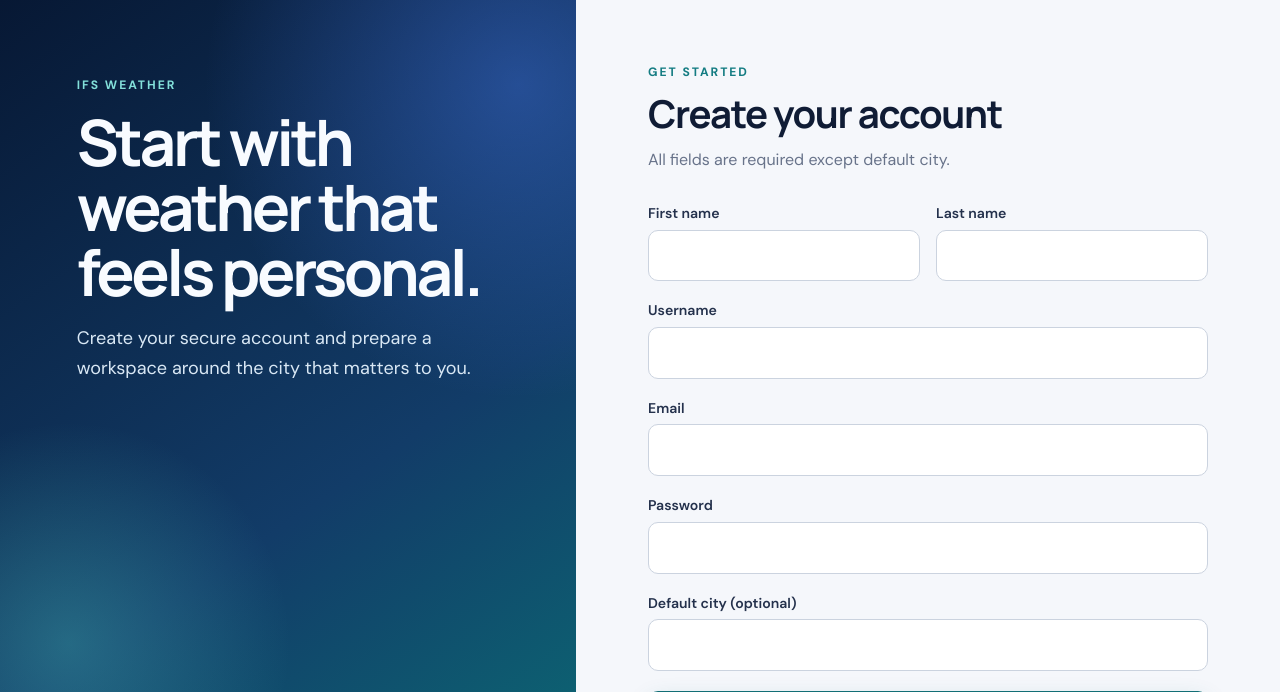
it: registration flow › registers a User, establishes the session, and routes to weather
This screenshot has width=1280, height=692.
Type "Ada" into the field labelled "First name" at (784, 256), box left=648, top=230, right=920, bottom=281
Type "Lovelace" into the field labelled "Last name" at (1072, 256), box left=936, top=230, right=1208, bottom=281
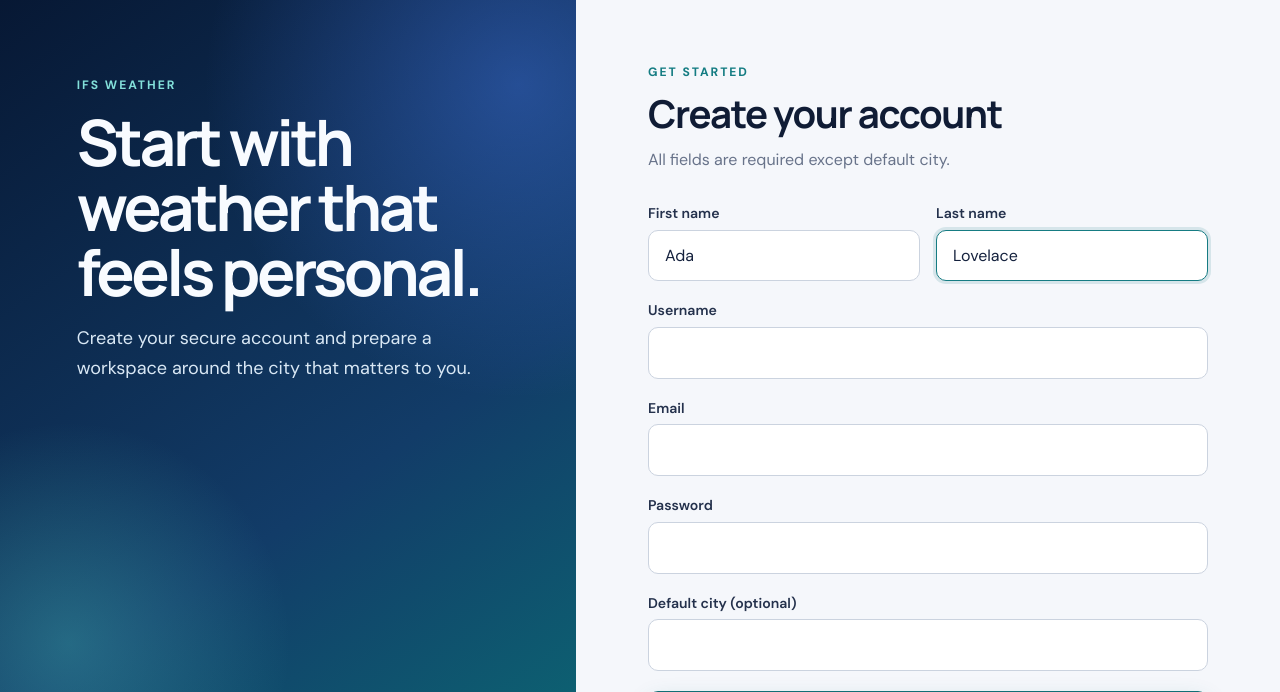
Type "ada.lovelace" into the field labelled "Username" at (928, 353), box left=648, top=327, right=1208, bottom=379
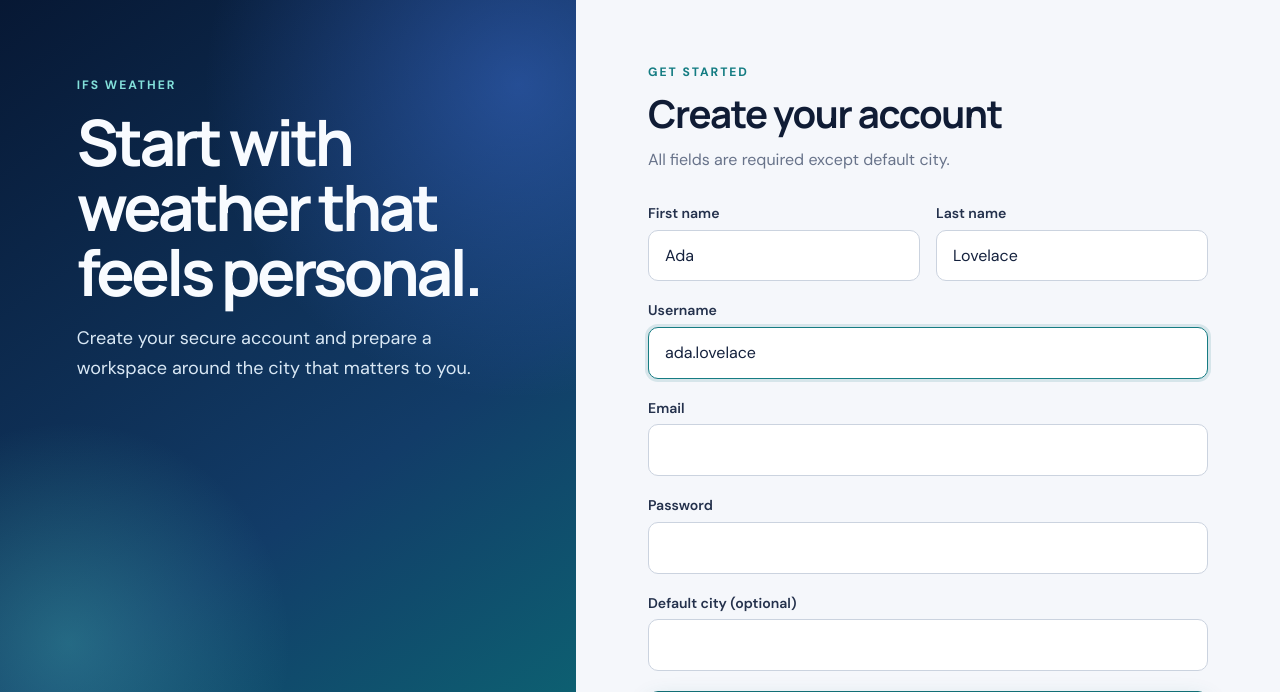
Type "ada@example.test" into the field labelled "Email" at (928, 450), box left=648, top=424, right=1208, bottom=476
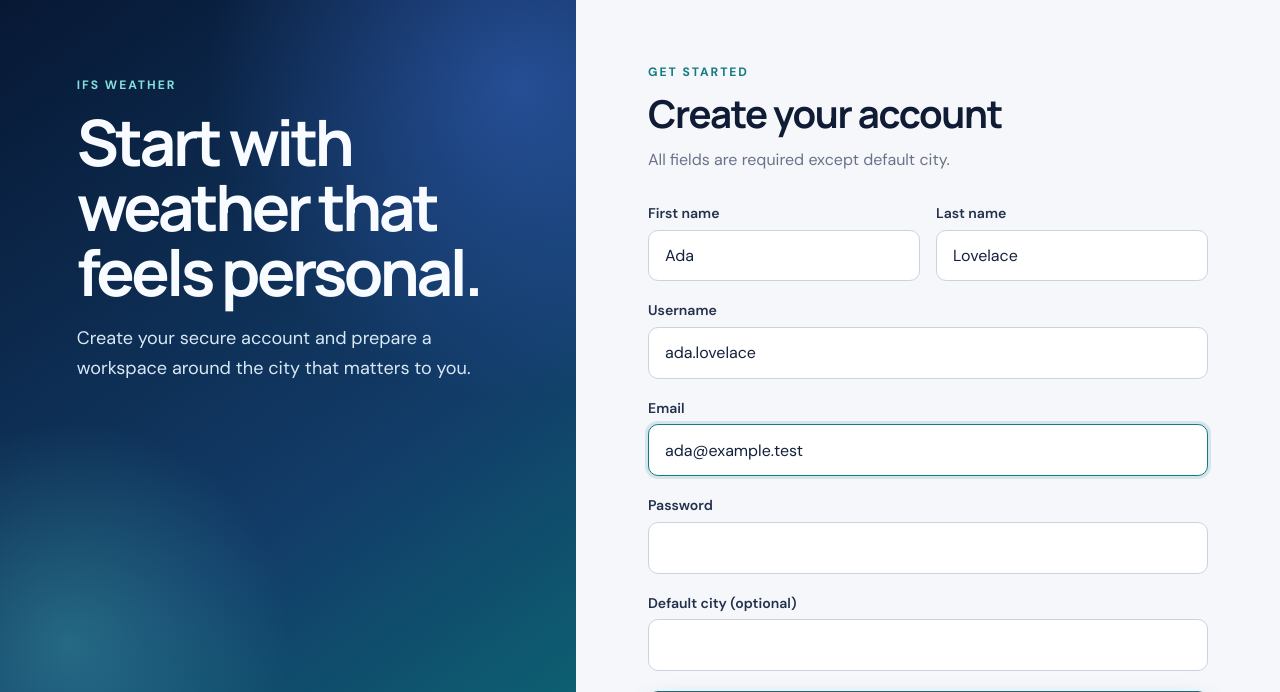
Type "SecurePass1" into the password field labelled "Password" at (928, 548), box left=648, top=522, right=1208, bottom=574
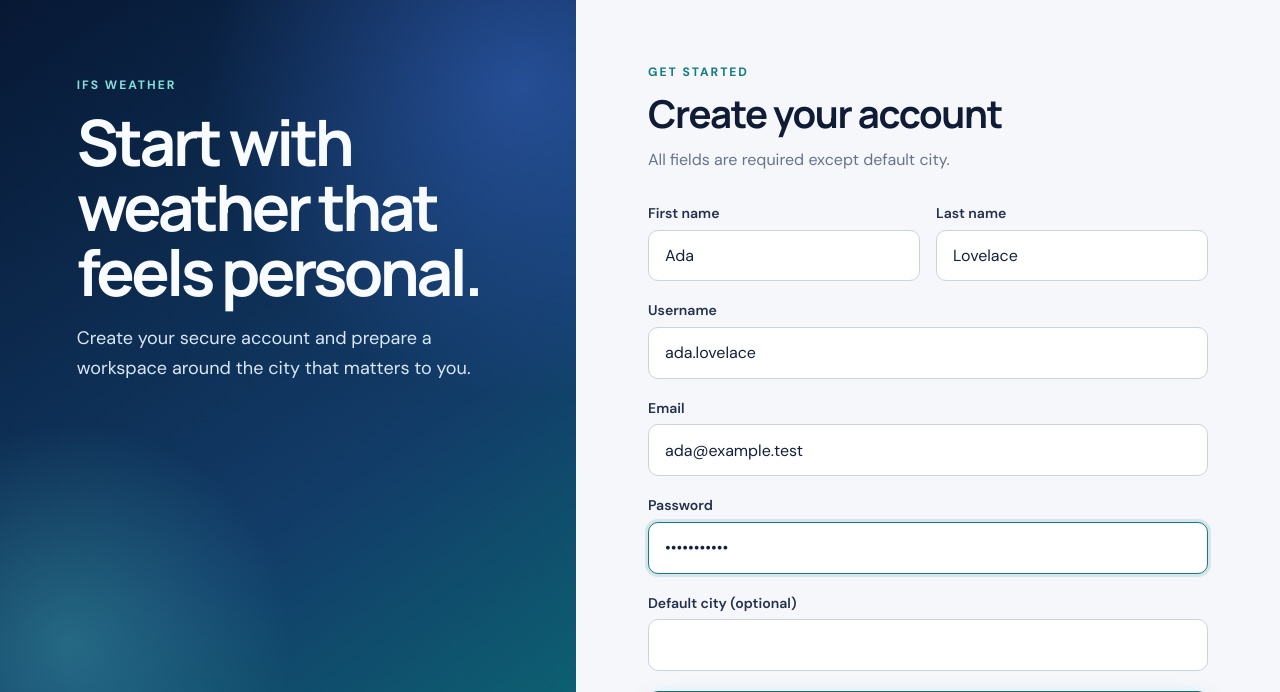
Type " London " into the field labelled "Default city (optional)" at (928, 645), box left=648, top=619, right=1208, bottom=671
(page scrolled)
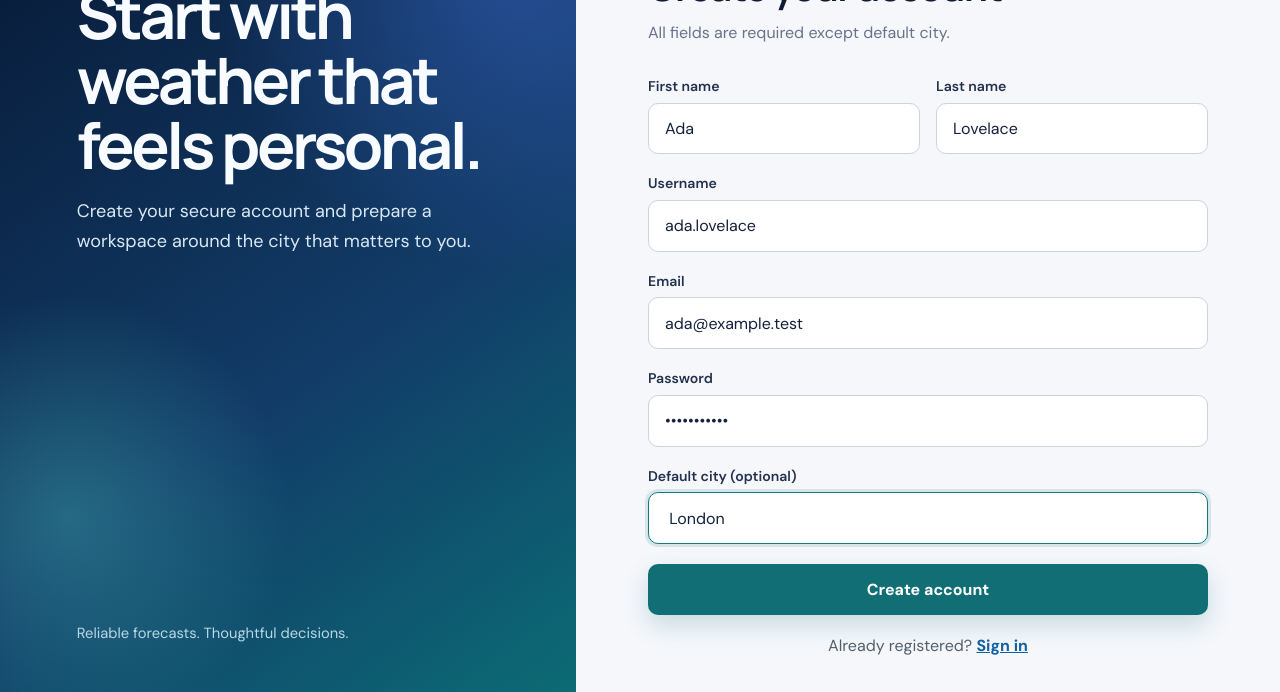
Click the button "Create account" at (928, 589), box left=648, top=564, right=1208, bottom=615
(page scrolled)
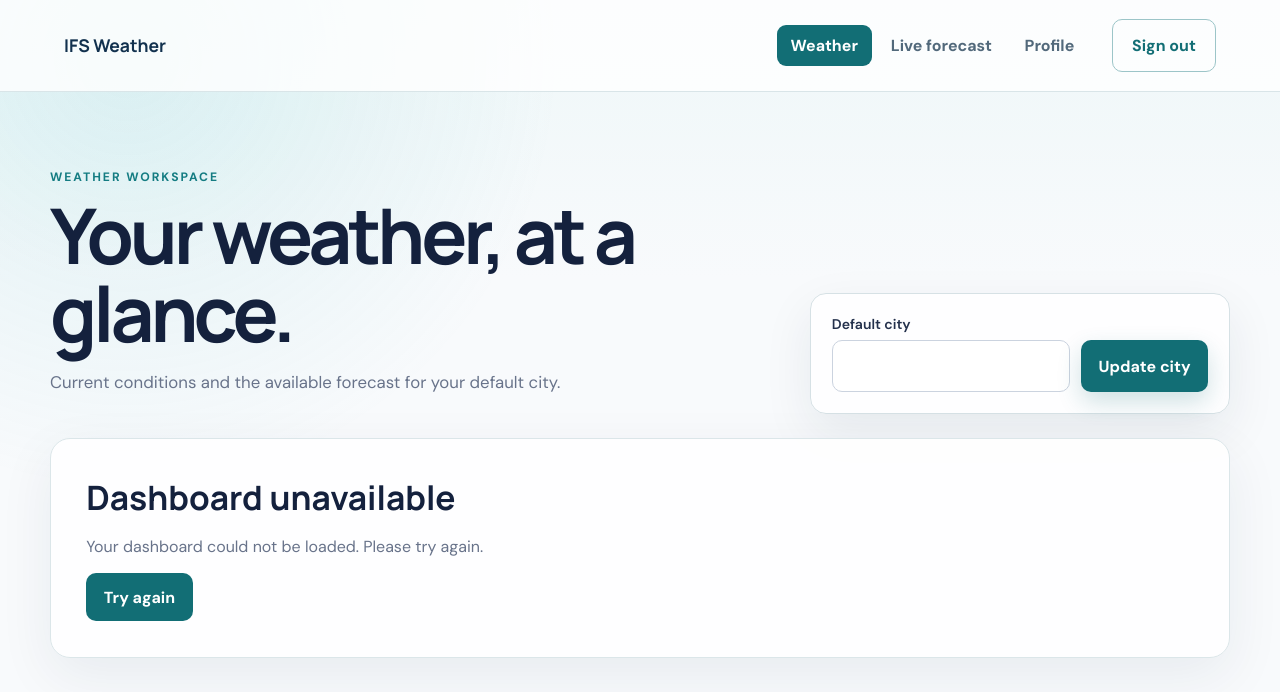
Now the heading "Your weather, at a glance." is shown, box left=50, top=182, right=634, bottom=365
